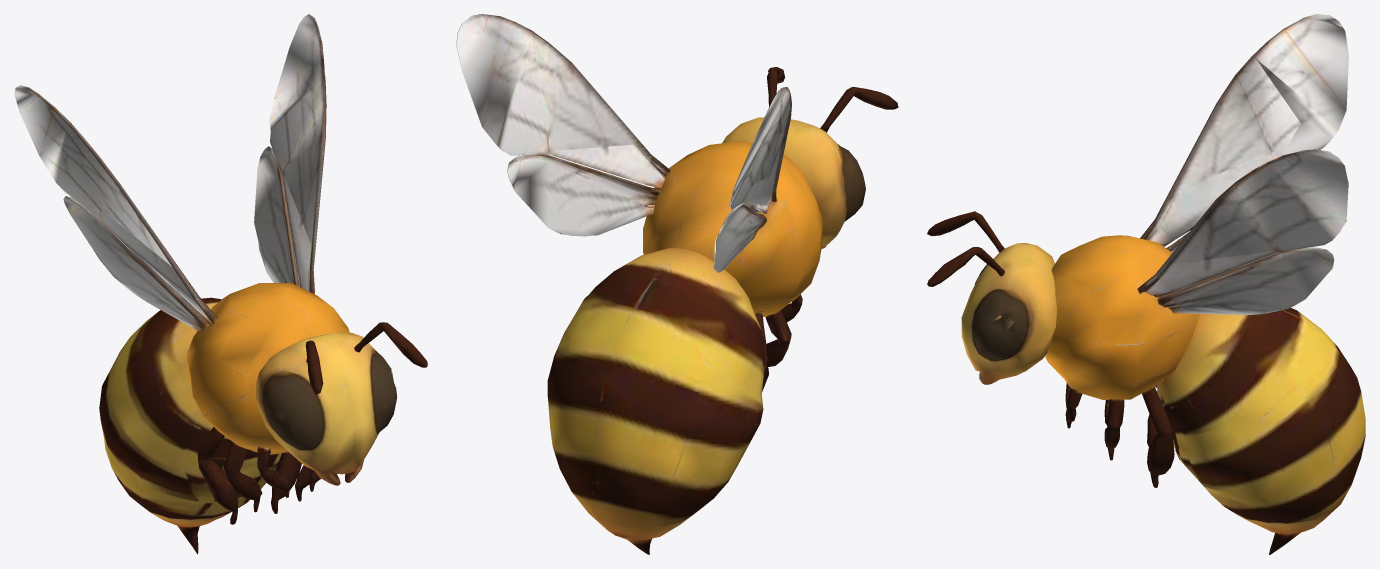
File: bee-small.glb
3 views of the same model, side by side, from view 1: azimuth 30°, elevation 25°; view 2: azimuth 150°, elevation 25°; view 3: azimuth 270°, elevation 25° (orthographic). The views are drawn at different scales.
Parts seen in each view (by area): view 1: body, wing_fore_L, wing_fore_R, wing_hind_R, wing_hind_L; view 2: body, wing_fore_L, wing_hind_L, wing_fore_R, wing_hind_R; view 3: body, wing_fore_R, wing_fore_L, wing_hind_L.
Part boxes in pixels (x1,y1,x2,y2): body: (99,283,427,554); wing_fore_L: (269,14,326,294); wing_fore_R: (14,85,218,325); wing_hind_R: (63,196,209,331); wing_hind_L: (254,146,299,286); body: (547,67,898,554); wing_fore_L: (456,14,670,188); wing_hind_L: (507,154,661,236); wing_fore_R: (729,87,791,213); wing_hind_R: (714,203,766,272); body: (927,211,1365,554); wing_fore_R: (1140,14,1348,246); wing_fore_L: (1137,149,1348,297); wing_hind_L: (1157,247,1334,314).
Size of the model in its own units: 0.00938 by 0.015 by 0.0126.
1 material, 1 textured.
